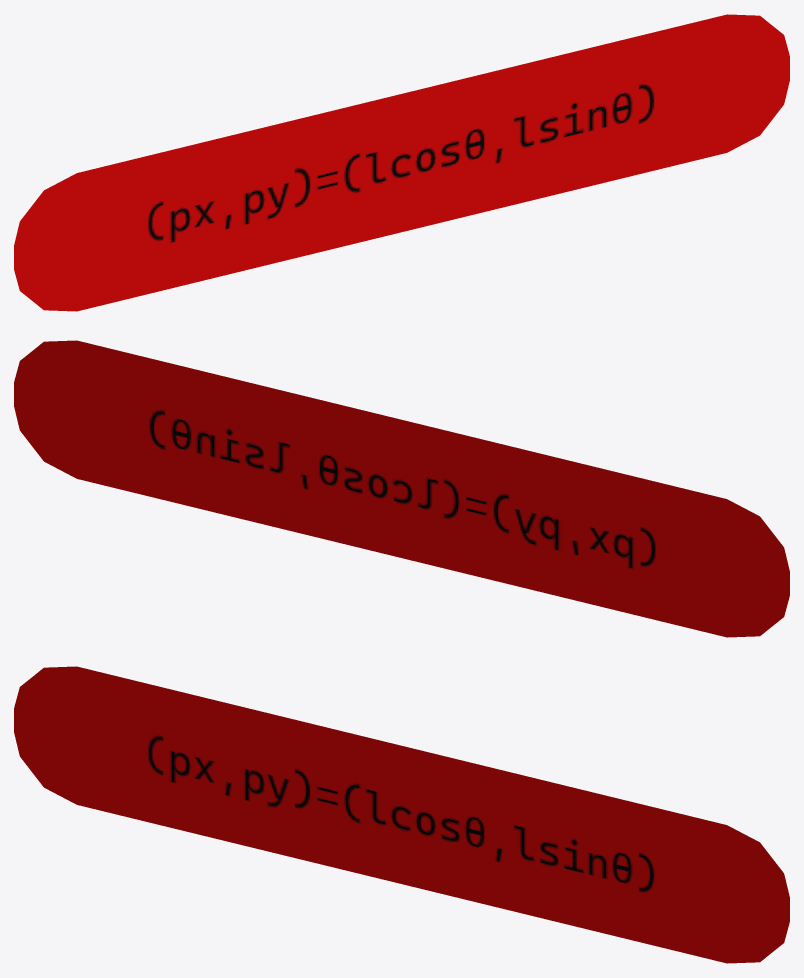
Rendered from MathBox_Red.fbx.
The picture shows the model from 3 angles, top to bottom: view 1: azimuth 30°, elevation 25°; view 2: azimuth 150°, elevation 25°; view 3: azimuth 330°, elevation 25°; orthographic projection.
Parts seen in each view (by area): view 1: MathBox_Red; view 2: MathBox_Red; view 3: MathBox_Red.
Boxes of the visible parts, x1,y1,x2,y2 form: MathBox_Red: (14,14,789,311); MathBox_Red: (14,340,789,637); MathBox_Red: (14,666,789,963).
Size of the model in its own units: 506 by 86.26 by 2e-05.
